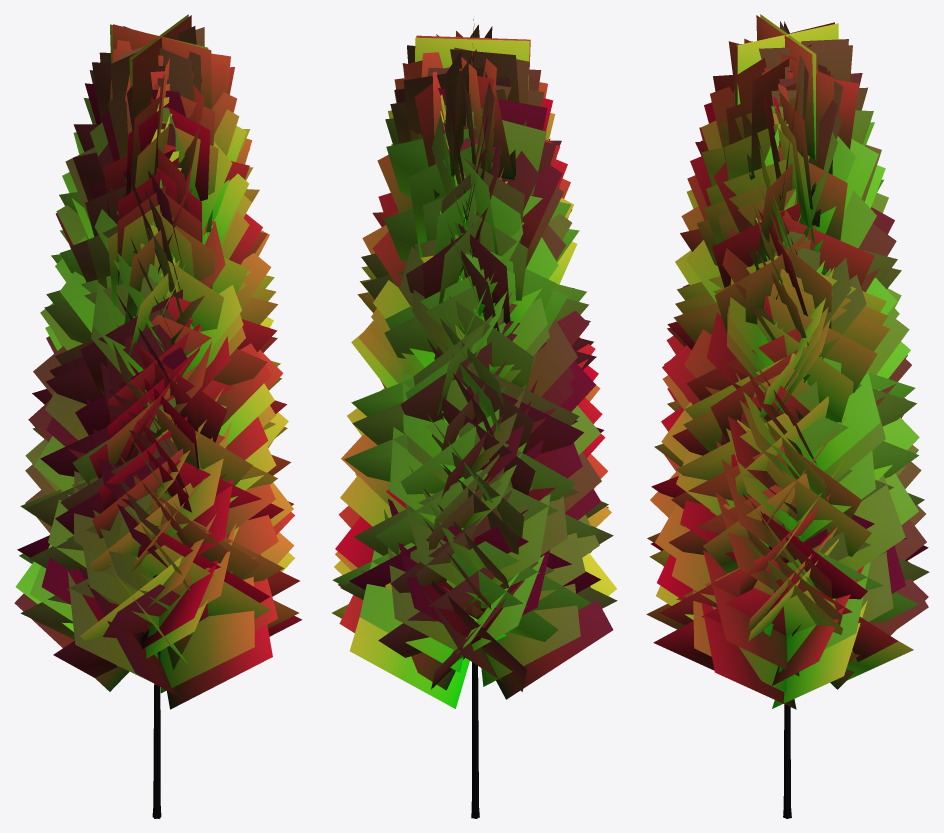
The model's file is URP_P4_Tree_3_LOD_0.fbx.
The picture shows the model from 3 angles, left to right: view 1: azimuth 30°, elevation 25°; view 2: azimuth 150°, elevation 25°; view 3: azimuth 270°, elevation 25°; orthographic projection.
Parts seen in each view (by area): view 1: Tree_3_LOD_0; view 2: Tree_3_LOD_0; view 3: Tree_3_LOD_0.
Boxes of the visible parts, left/top/right/bottom form: Tree_3_LOD_0: left=14, top=14, right=302, bottom=818; Tree_3_LOD_0: left=332, top=18, right=617, bottom=818; Tree_3_LOD_0: left=646, top=14, right=929, bottom=818.
Size of the model in its own units: 209 by 640 by 209.
